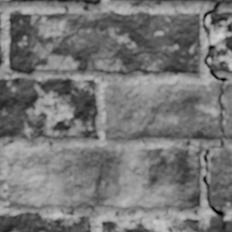brick: (9, 12, 199, 73), (7, 147, 199, 207), (0, 78, 96, 138), (0, 213, 89, 231), (209, 12, 231, 71), (209, 149, 231, 205), (81, 0, 99, 3), (0, 0, 33, 1)
broken_brick: (104, 80, 220, 139), (101, 215, 231, 231), (225, 78, 231, 139), (130, 0, 231, 3)
crack: (192, 2, 231, 229), (168, 226, 172, 231)
